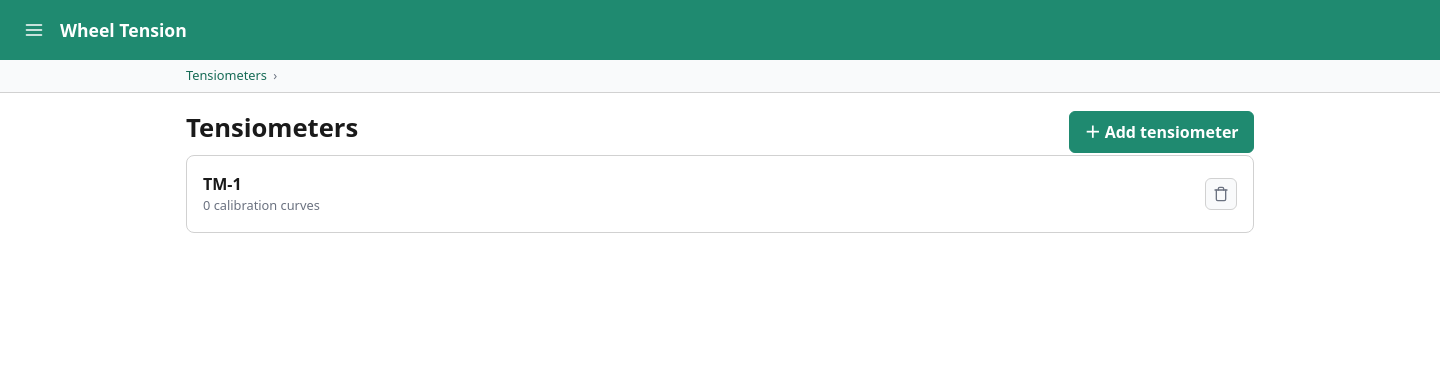
Test case: TensiometerPage › navigates to the tensiometer detail when a row is clicked
Click the text "TM-1" at (222, 184), box [203,173,242,195]
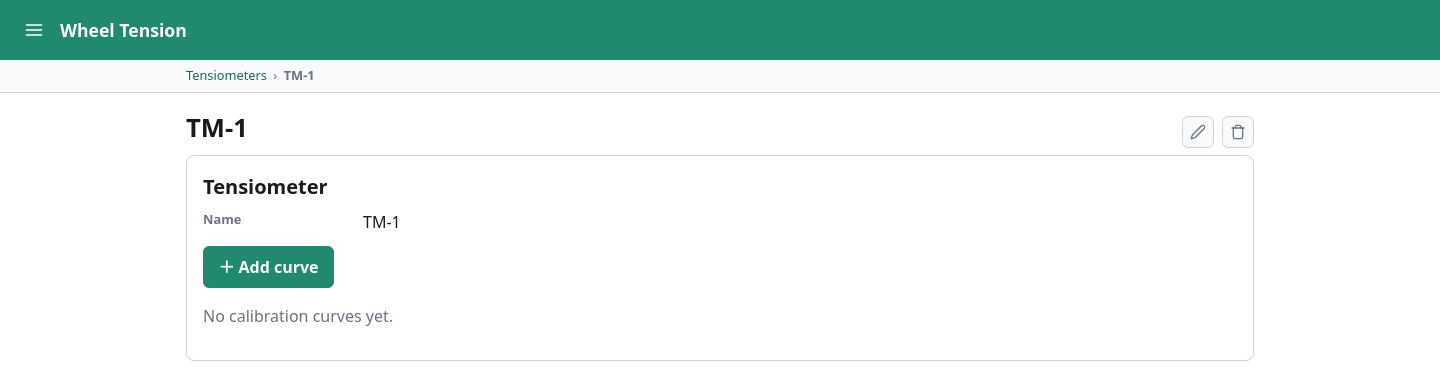
Now the heading "TM-1" is shown, box [186,109,248,147]
Now the button "＋ Add curve" is shown, box [203,246,334,288]
